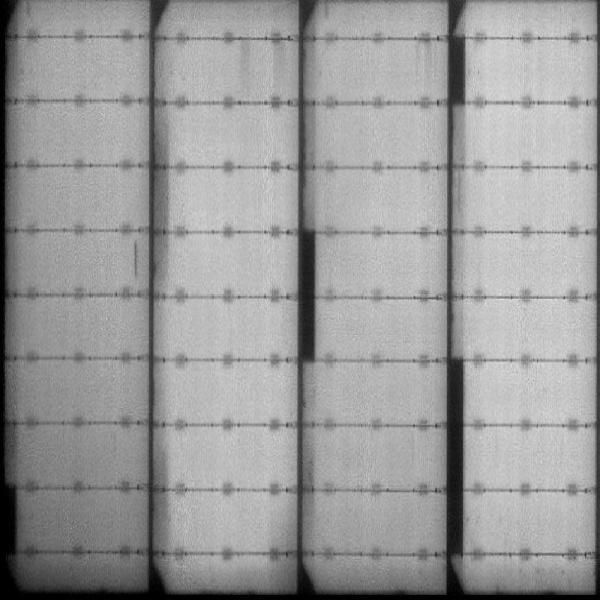black_border: (442, 350, 467, 563), (294, 224, 318, 371), (1, 479, 22, 563), (446, 32, 470, 105)
scratch: (131, 239, 140, 278)
